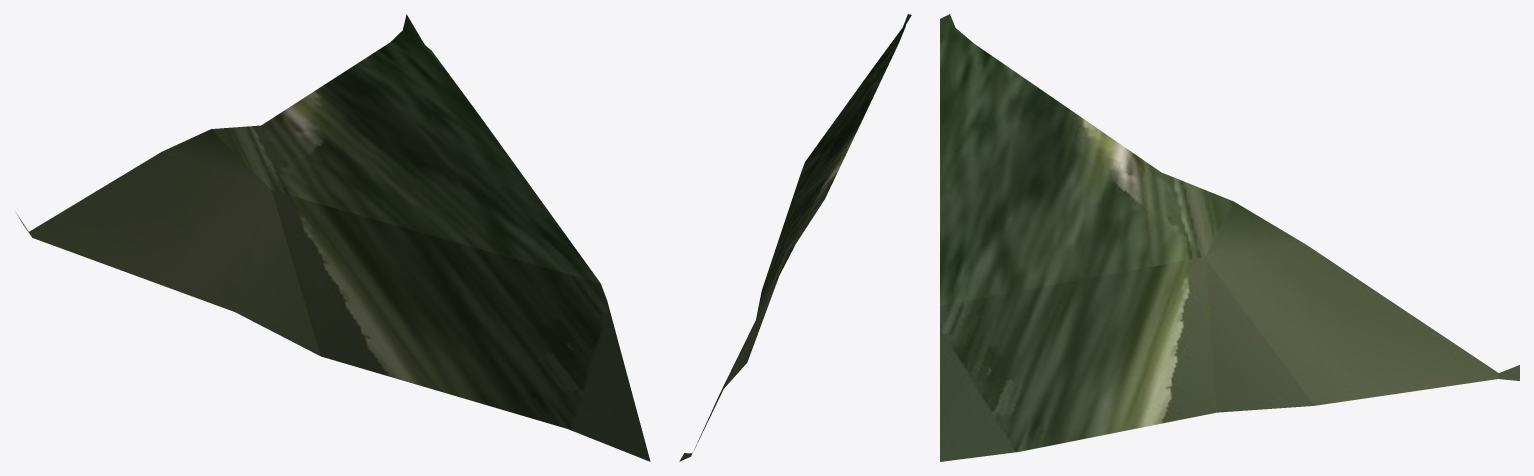
3 views of the same model, side by side, from view 1: azimuth 30°, elevation 25°; view 2: azimuth 150°, elevation 25°; view 3: azimuth 270°, elevation 25° (orthographic). The views are drawn at different scales.
Bounding box in the file's own units: 1.01 × 2.04 × 2.95.
1 material, 1 textured.
